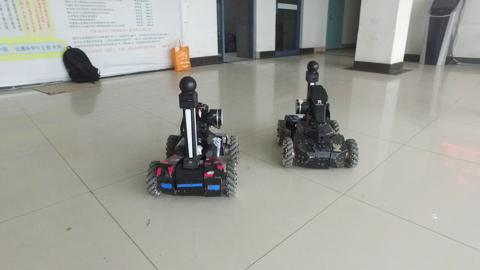chariot: (134, 73, 241, 203), (275, 60, 362, 172)
